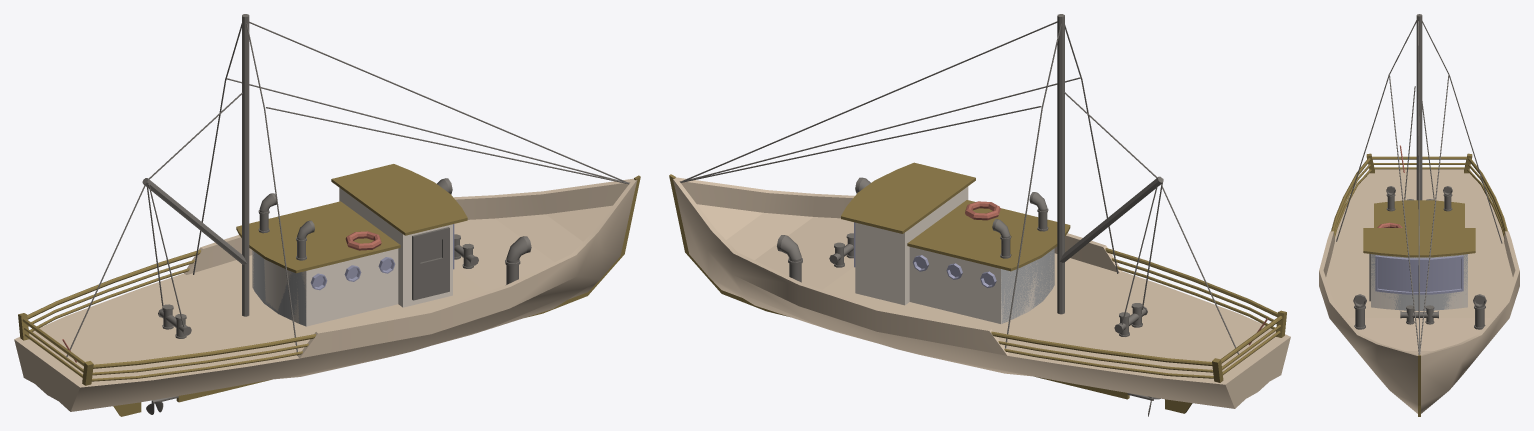
The model's file is ship.fbx.
3 renders of one model, left to right at view 1: azimuth 30°, elevation 25°; view 2: azimuth 150°, elevation 25°; view 3: azimuth 270°, elevation 25°, orthographic. The views are drawn at different scales.
Parts seen in each view (by area): view 1: pCylinder1; view 2: pCylinder1; view 3: pCylinder1.
Part boxes in pixels (<box>): pCylinder1: <box>14,14,640,416</box>; pCylinder1: <box>669,14,1290,416</box>; pCylinder1: <box>1319,14,1519,416</box>.
Size of the model in its own units: 125 by 76.62 by 48.42.
